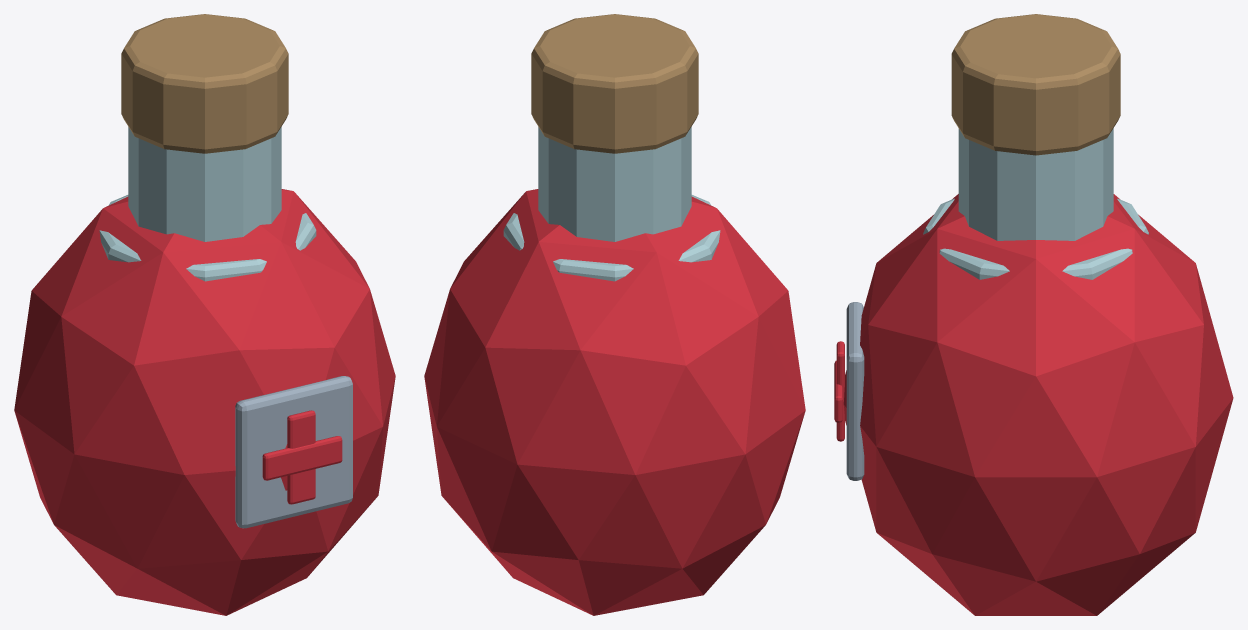
Rendered from potion.glb.
3 renders of one model, left to right at view 1: azimuth 30°, elevation 25°; view 2: azimuth 150°, elevation 25°; view 3: azimuth 270°, elevation 25°, orthographic.
Parts seen in each view (by area): view 1: Potion_Bottle, Potion_Cork, Potion_Neck, Potion_Label, Potion_Shoulder, Potion_CrossH, Potion_CrossV; view 2: Potion_Bottle, Potion_Cork, Potion_Neck, Potion_Shoulder; view 3: Potion_Bottle, Potion_Cork, Potion_Neck, Potion_Label, Potion_Shoulder, Potion_CrossV.
Boxes of the visible parts, box(x1,y1,x2,y2) form: Potion_Bottle: box(14, 189, 395, 615); Potion_Cork: box(121, 14, 288, 153); Potion_Neck: box(128, 127, 281, 241); Potion_Label: box(235, 376, 352, 528); Potion_Shoulder: box(99, 195, 316, 281); Potion_CrossH: box(262, 436, 342, 480); Potion_CrossV: box(287, 410, 315, 504); Potion_Bottle: box(424, 189, 805, 615); Potion_Cork: box(531, 14, 698, 153); Potion_Neck: box(538, 127, 691, 241); Potion_Shoulder: box(503, 195, 720, 281); Potion_Bottle: box(843, 194, 1233, 615); Potion_Cork: box(951, 14, 1120, 155); Potion_Neck: box(958, 128, 1113, 240); Potion_Label: box(846, 302, 864, 480); Potion_Shoulder: box(923, 198, 1148, 279); Potion_CrossV: box(836, 341, 844, 441).
Size of the model in its own units: 0.5326 by 0.886 by 0.566.
